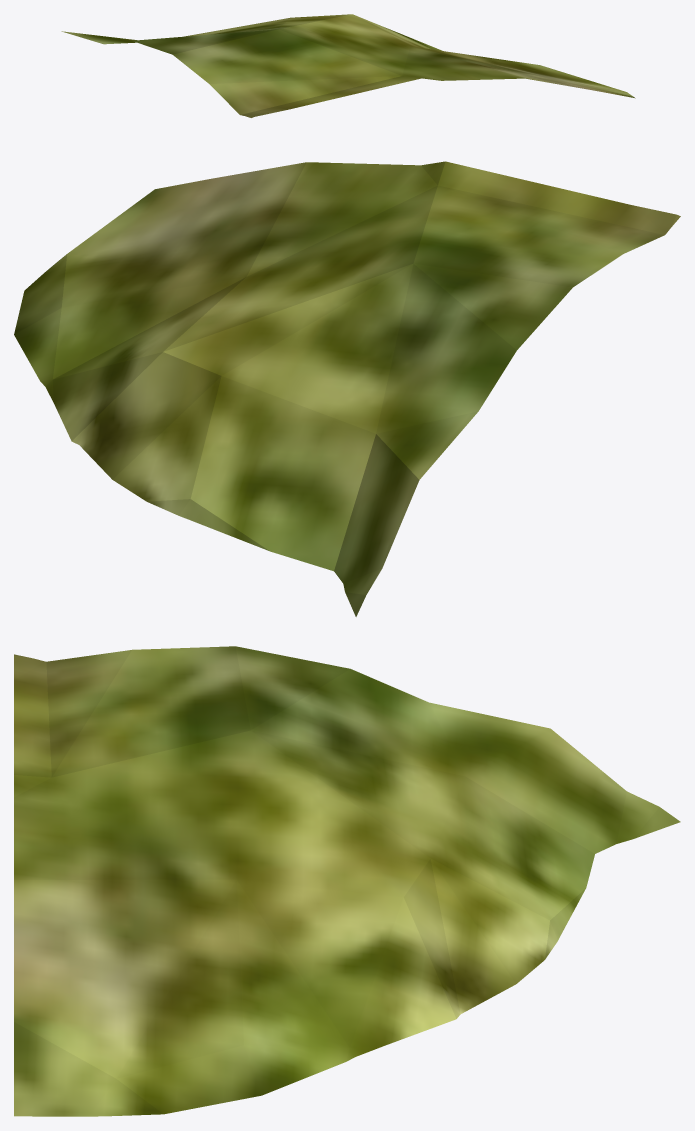
The picture shows the model from 3 angles, top to bottom: view 1: azimuth 30°, elevation 25°; view 2: azimuth 150°, elevation 25°; view 3: azimuth 270°, elevation 25°; orthographic projection. The views are drawn at different scales.
Bounding box in the file's own units: 0.279 × 0.0776 × 0.2668.
1 material, 1 textured.
